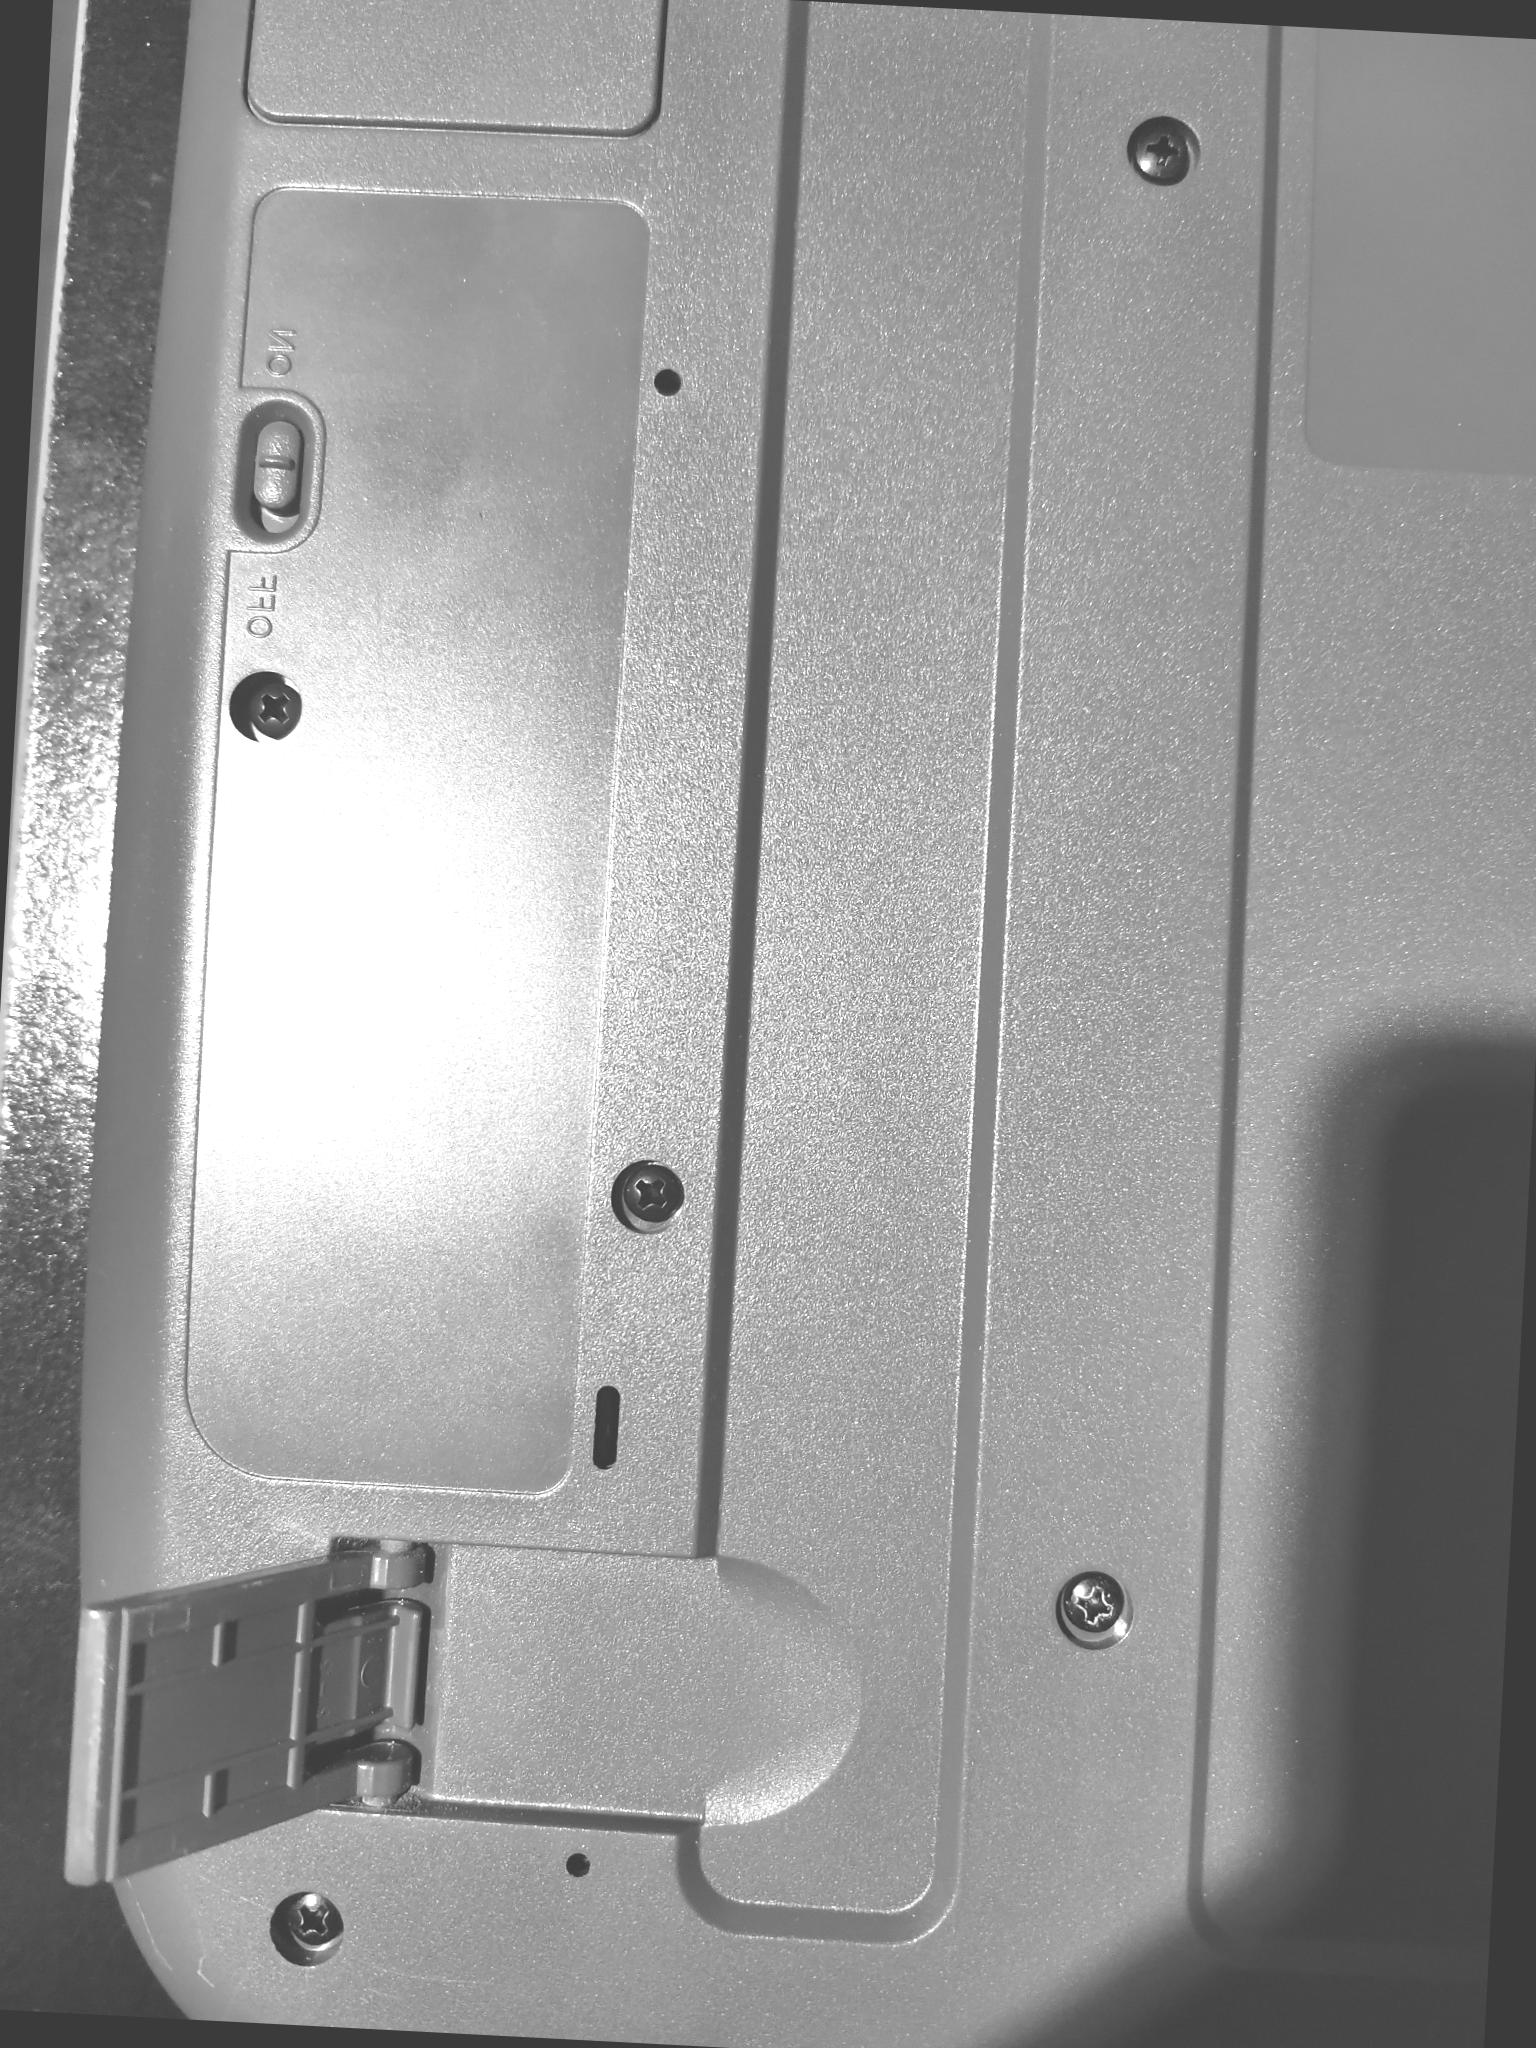screw: (1125, 106, 1205, 190), (616, 1155, 691, 1229), (1055, 1569, 1129, 1642), (237, 666, 302, 745), (278, 1890, 345, 1953)
